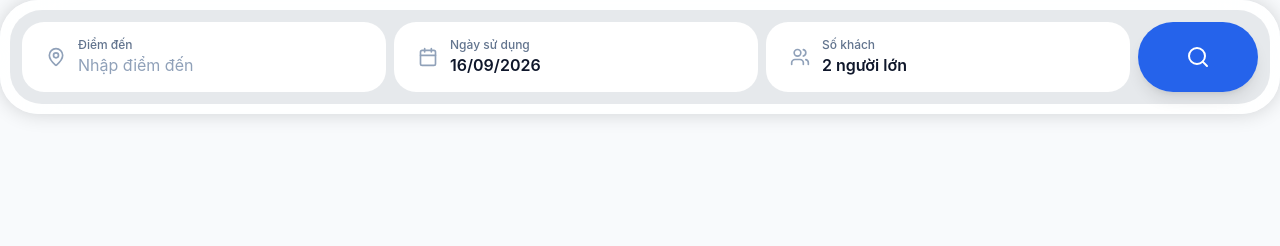
it: LandingSearchSheet › experiences keep the popular destinations panel
Focus the dropdown at {"x": 220, "y": 65}, box [78,53,362,77]
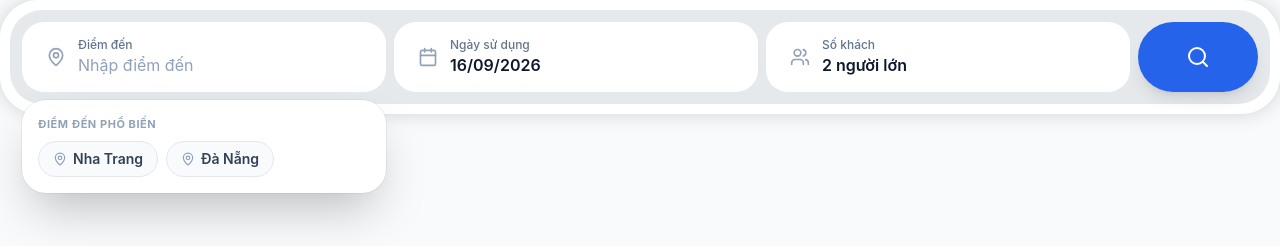
Result: the text "Điểm đến phổ biến" is shown at [38,117,156,131]
